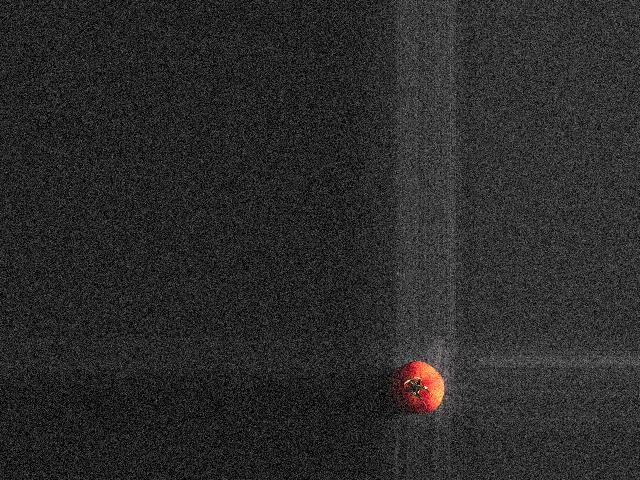tomato: (391, 361, 444, 413)
